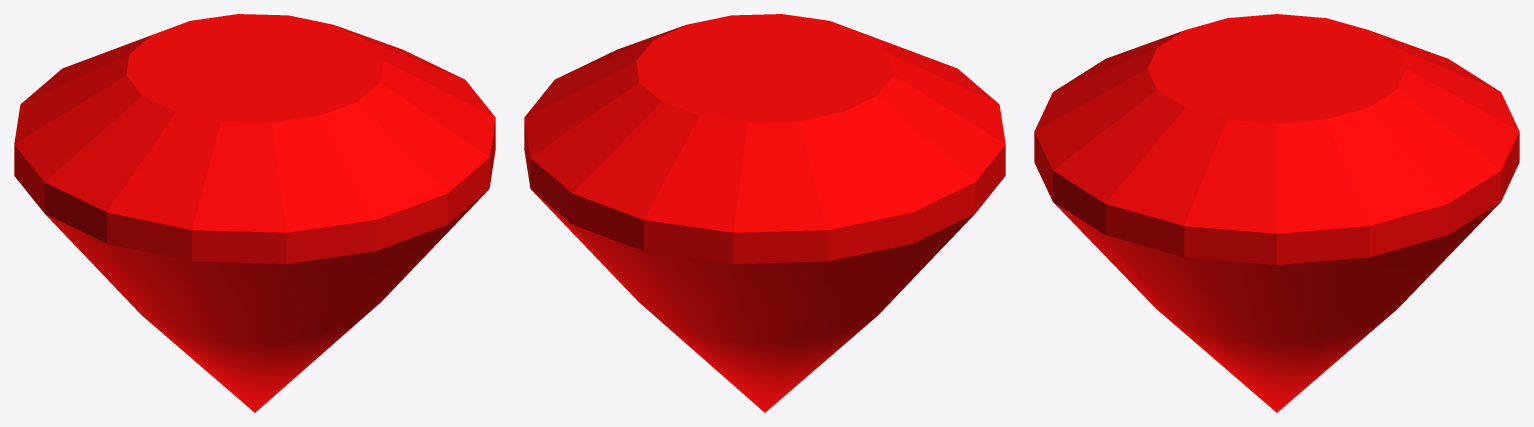
Rendered from Red Gem.FBX.
3 renders of one model, left to right at view 1: azimuth 30°, elevation 25°; view 2: azimuth 150°, elevation 25°; view 3: azimuth 270°, elevation 25°, orthographic.
Visible parts, largest first — view 1: Red Gem; view 2: Red Gem; view 3: Red Gem.
Boxes of the visible parts, x1,y1,x2,y2 form: Red Gem: [14, 14, 495, 412]; Red Gem: [524, 14, 1005, 412]; Red Gem: [1034, 14, 1519, 412].
Bounding box in the file's own units: 0.1 × 0.0783 × 0.1.
